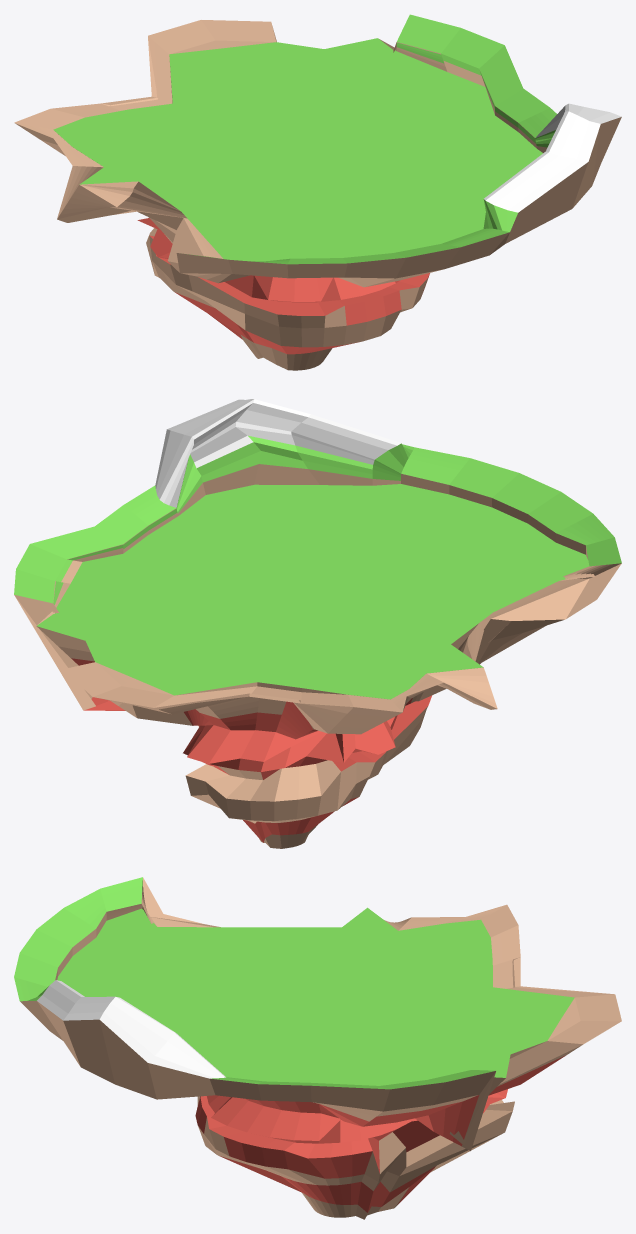
Rendered from FloatIsland.obj.
3 views of the same model, one above another, from view 1: azimuth 30°, elevation 25°; view 2: azimuth 150°, elevation 25°; view 3: azimuth 270°, elevation 25° (orthographic). The views are drawn at different scales.
Parts seen in each view (by area): view 1: Cube; view 2: Cube; view 3: Cube.
Boxes of the visible parts, x1,y1,x2,y2 form: Cube: (14, 14, 621, 370); Cube: (14, 399, 621, 848); Cube: (14, 877, 621, 1219).
Bounding box in the file's own units: 15.08 × 9.45 × 18.11.
